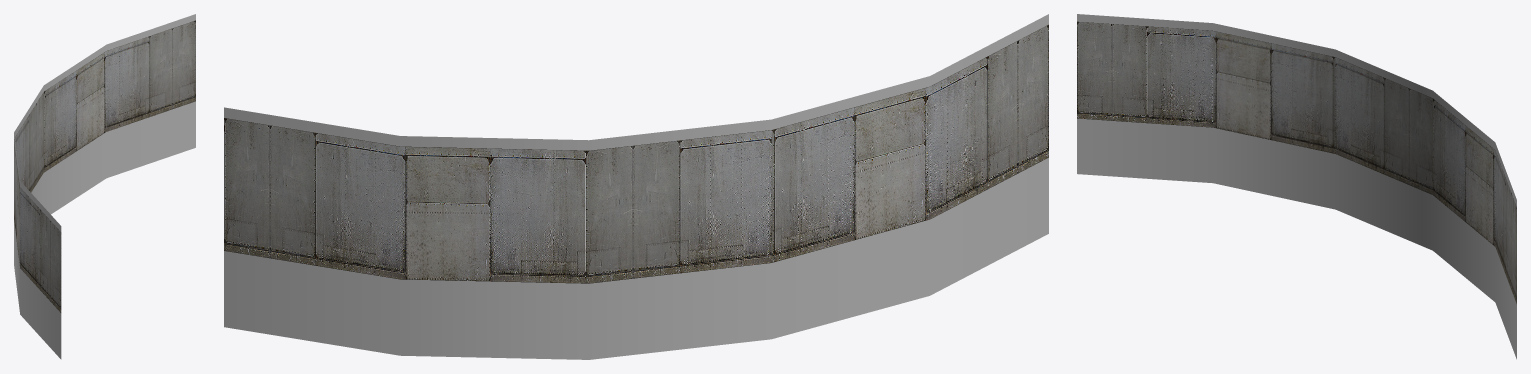
Rendered from Wall_A_Short2mts_12.fbx.
The picture shows the model from 3 angles, left to right: view 1: azimuth 30°, elevation 25°; view 2: azimuth 150°, elevation 25°; view 3: azimuth 270°, elevation 25°; orthographic projection. The views are drawn at different scales.
Visible parts, largest first — view 1: Wall_A_Short2mts_12; view 2: Wall_A_Short2mts_12; view 3: Wall_A_Short2mts_12.
Boxes of the visible parts, left/top/right/bottom form: Wall_A_Short2mts_12: left=14, top=14, right=195, bottom=359; Wall_A_Short2mts_12: left=224, top=14, right=1048, bottom=359; Wall_A_Short2mts_12: left=1077, top=14, right=1516, bottom=359.
Bounding box in the file's own units: 498 × 200 × 498.
